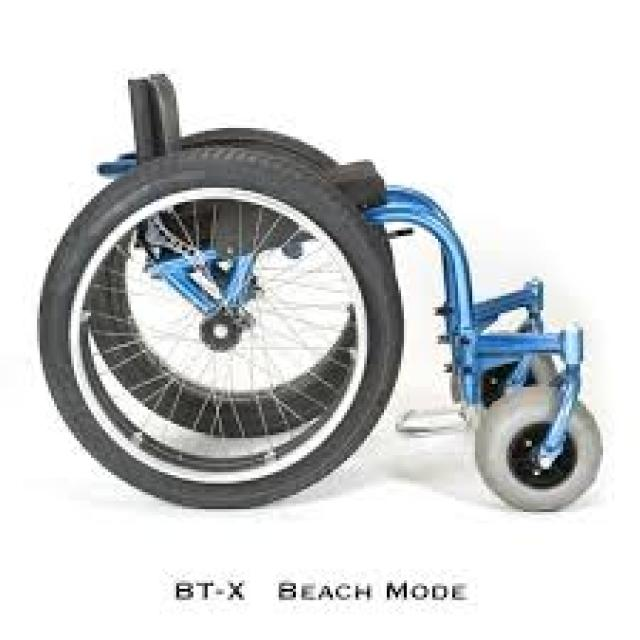wheelchairs: (37, 57, 606, 540)
